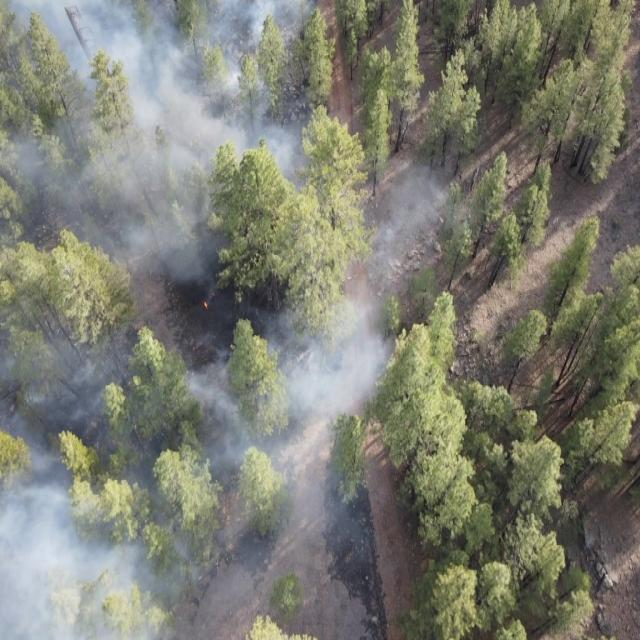fire: (200, 296, 212, 314)
smoke: (1, 207, 394, 640), (0, 0, 317, 208), (319, 159, 454, 283)
